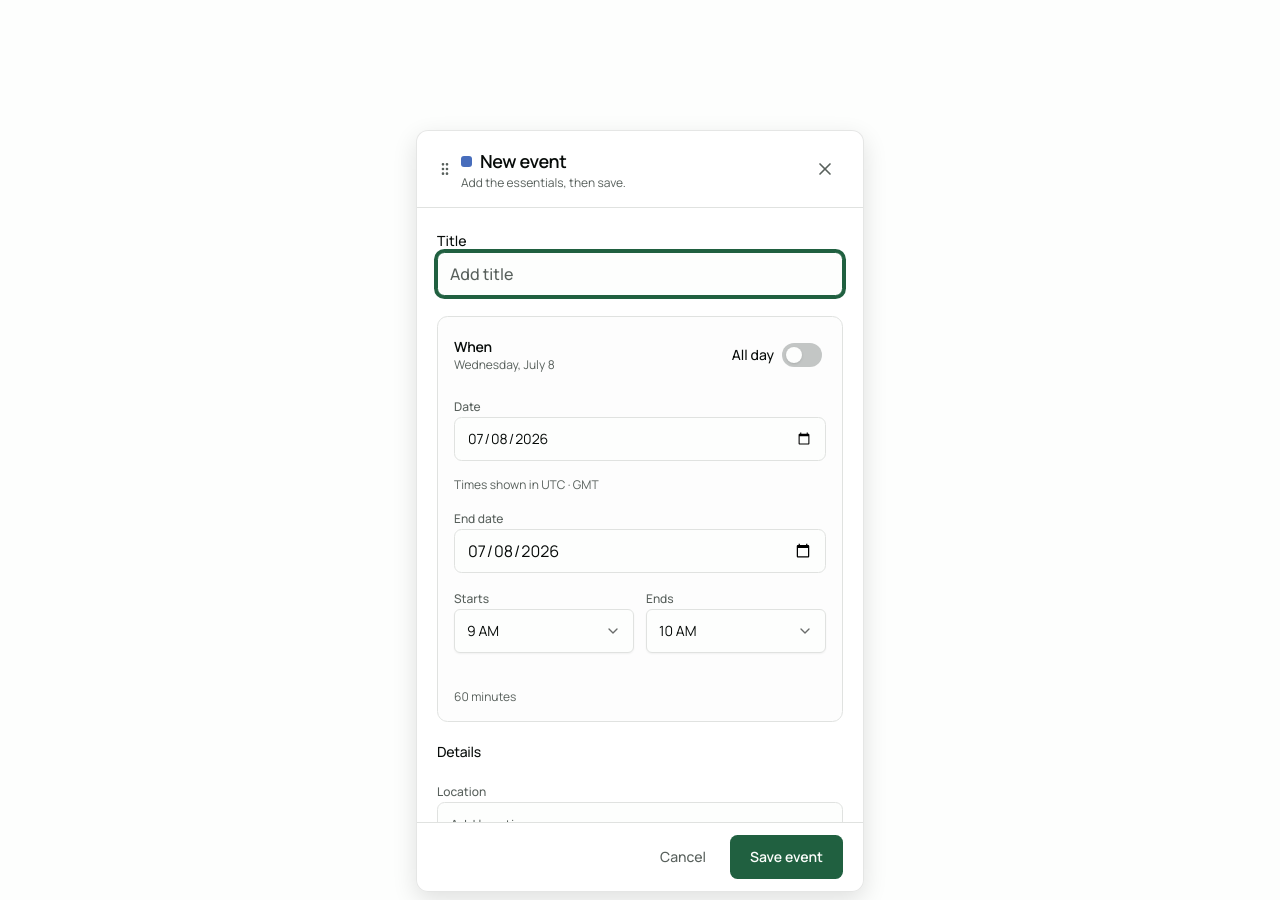
Test case: EventModal — new event › shows a generic message when a non-Error is thrown
Click the button "Save event". click: (786, 857)
box: [730, 835, 843, 879]
(page scrolled)
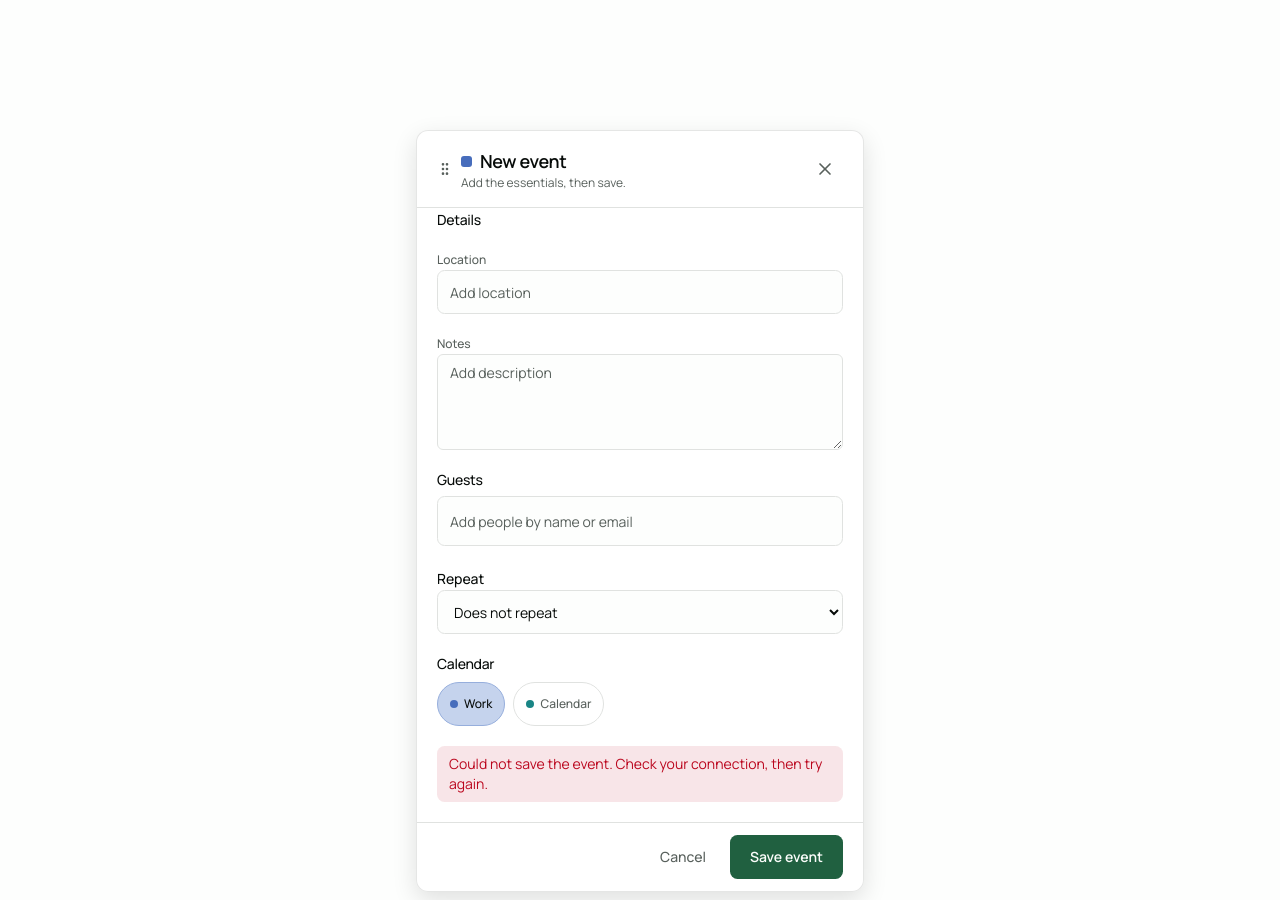
Expected: the text "Could not save the event. Check your connection, then try again." is shown, [437, 746, 843, 802]
